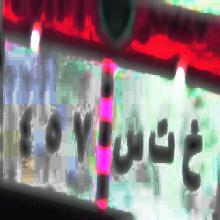4: (18, 99, 32, 168)
5: (44, 106, 64, 165)
7: (72, 98, 92, 173)
khaa: (179, 110, 205, 204)
seen: (112, 118, 144, 188)
taa: (148, 110, 175, 183)
